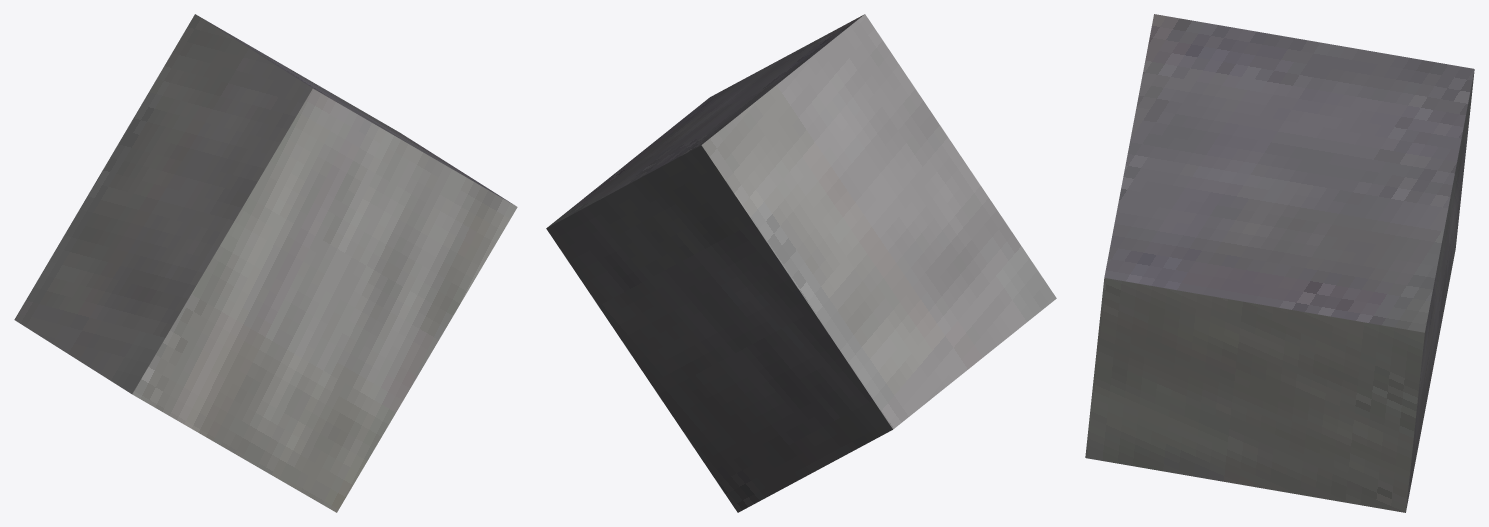
3 views of the same model, side by side, from view 1: azimuth 30°, elevation 25°; view 2: azimuth 150°, elevation 25°; view 3: azimuth 270°, elevation 25° (orthographic). The views are drawn at different scales.
Visible parts, largest first — view 1: BAG_0599100010073759; view 2: BAG_0599100010073759; view 3: BAG_0599100010073759.
Part boxes in pixels (box(x1,y1,x2,y2)): BAG_0599100010073759: box(14, 14, 517, 512); BAG_0599100010073759: box(546, 14, 1056, 512); BAG_0599100010073759: box(1085, 14, 1474, 512).
Bounding box in the file's own units: 3.96 × 4.16 × 3.01.
2 materials, 1 textured.
